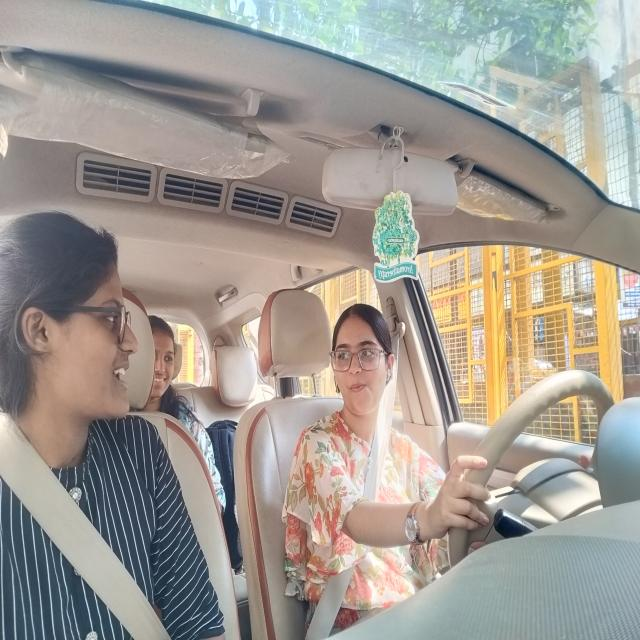LeftRight: (324, 312, 394, 431)
person: (20, 218, 138, 422), (153, 320, 180, 410)
